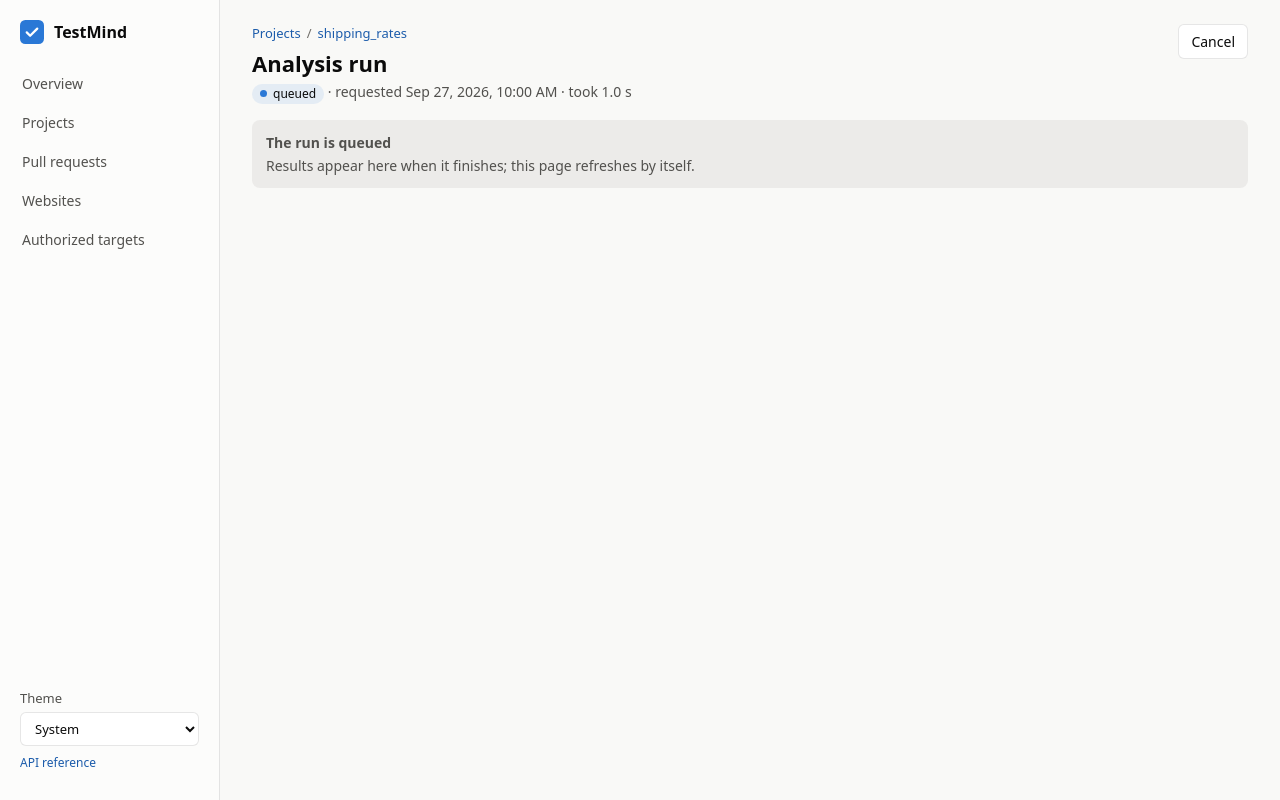
Run › explains a run that is still going, failed, or can be cancelled
Expected: the text "The run is queued" is shown, [266,132,391,152]
Click the button "Cancel".
click(1213, 42)  # box [1178,24,1248,59]
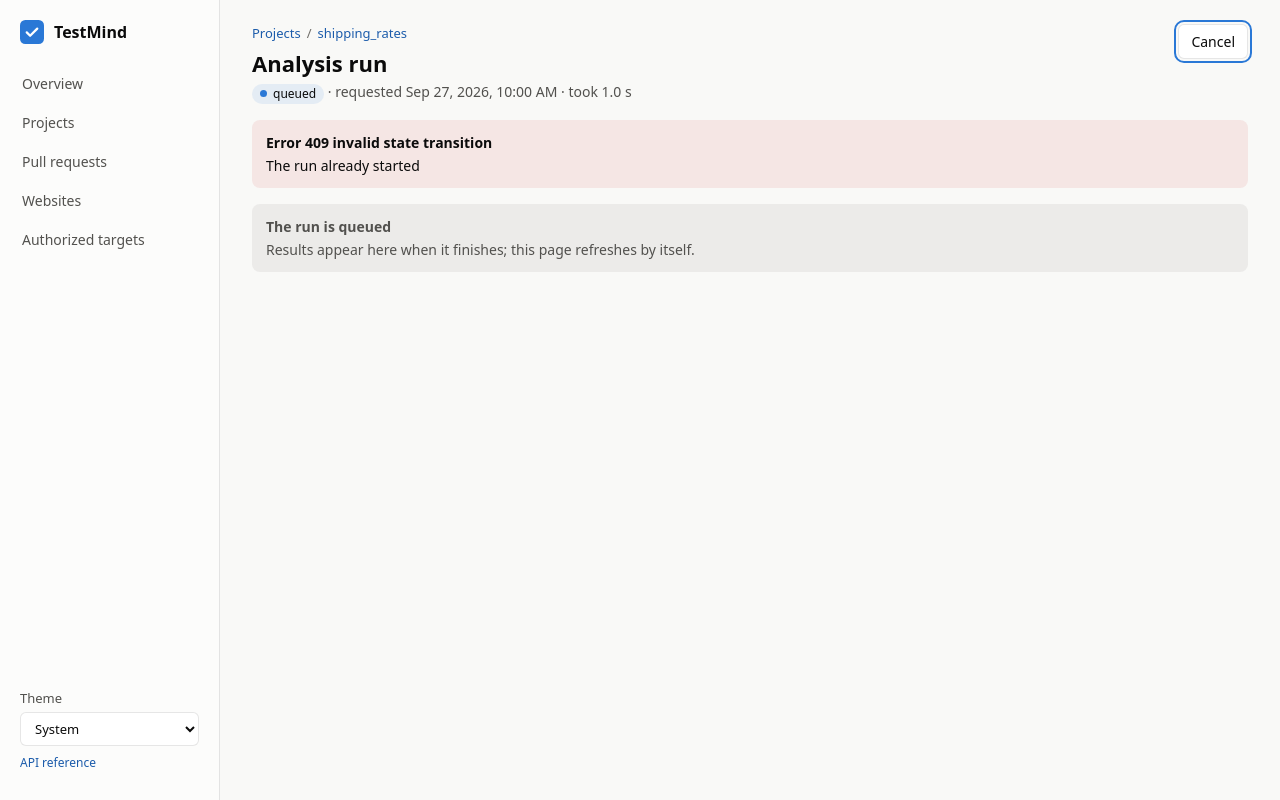
Result: the text "The run already started" is shown at [266,156,420,174]
